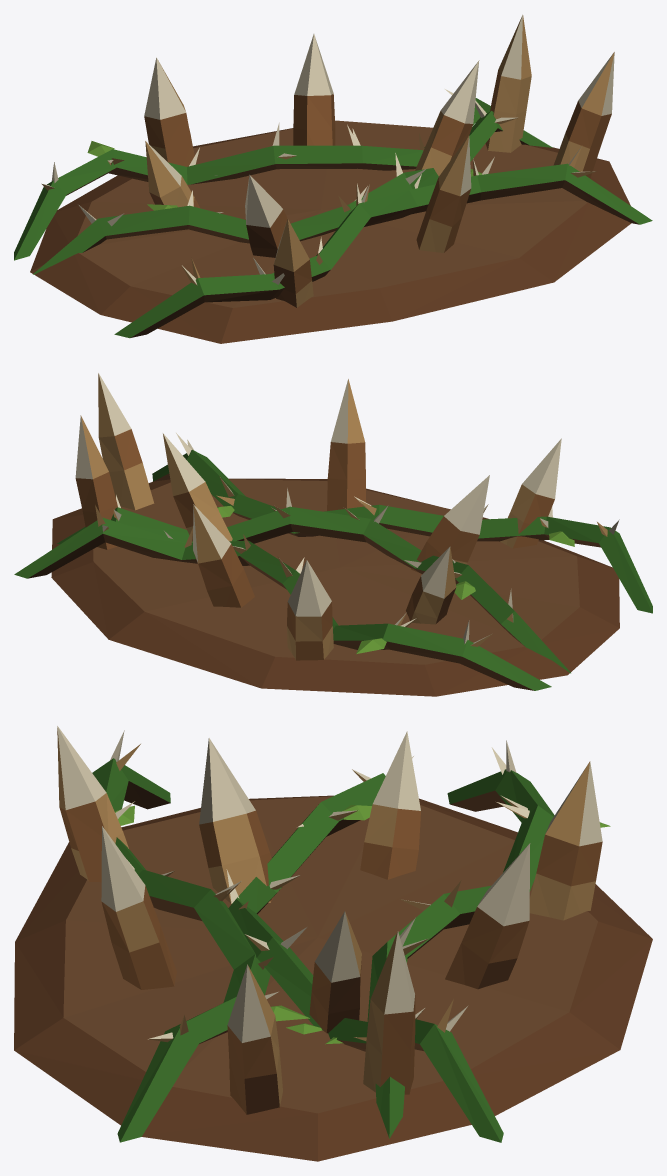
The model's file is thorn_spikes_2.glb.
3 views of the same model, one above another, from view 1: azimuth 30°, elevation 25°; view 2: azimuth 150°, elevation 25°; view 3: azimuth 270°, elevation 25° (orthographic). The views are drawn at different scales.
Visible parts, largest first — view 1: thorn_spikes_2; view 2: thorn_spikes_2; view 3: thorn_spikes_2.
Part boxes in pixels (x1,y1,x2,y2): thorn_spikes_2: [14, 14, 652, 343]; thorn_spikes_2: [14, 373, 652, 696]; thorn_spikes_2: [14, 726, 652, 1161].
Size of the model in its own units: 1.31 by 0.3195 by 0.9593.
